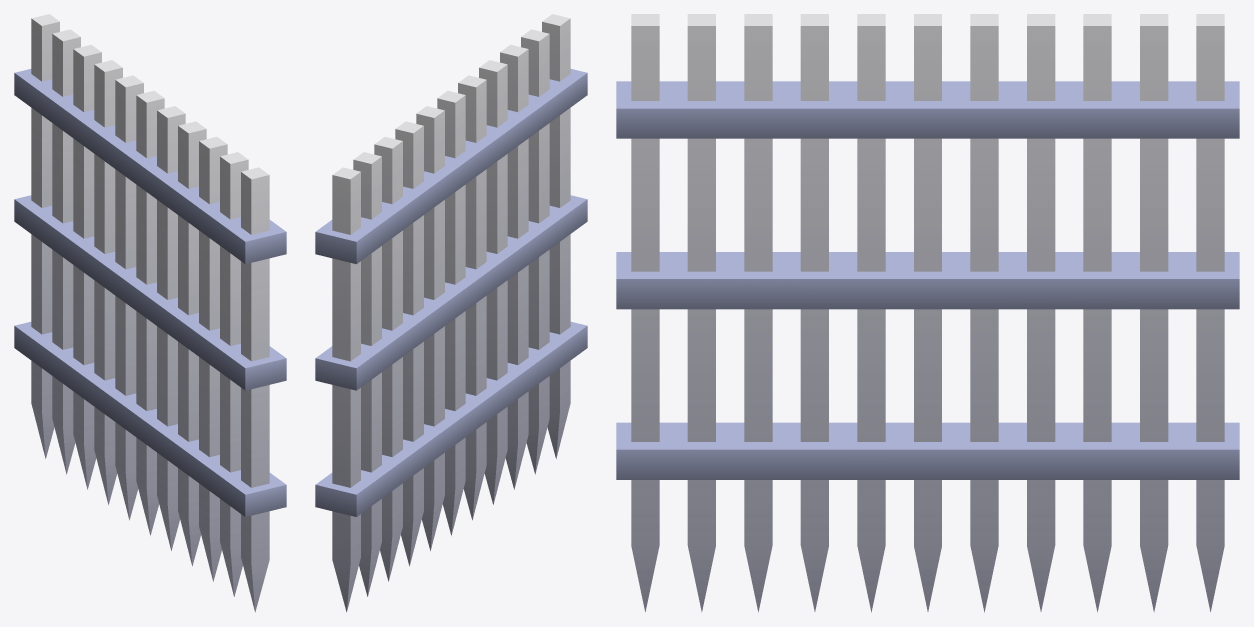
File: metal-gate.obj
3 views of the same model, side by side, from view 1: azimuth 30°, elevation 25°; view 2: azimuth 150°, elevation 25°; view 3: azimuth 270°, elevation 25° (orthographic). The views are drawn at different scales.
Visible parts, largest first — view 1: metal-gate; view 2: metal-gate; view 3: metal-gate.
Boxes of the visible parts, x1,y1,x2,y2 form: metal-gate: (14,14,286,612); metal-gate: (315,14,587,612); metal-gate: (616,14,1239,612).
Size of the model in its own units: 0.0714 by 0.7301 by 0.6953.
Materials: 1 (1 with a texture image).
